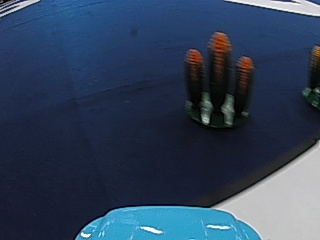corn: (184, 42, 253, 130)
